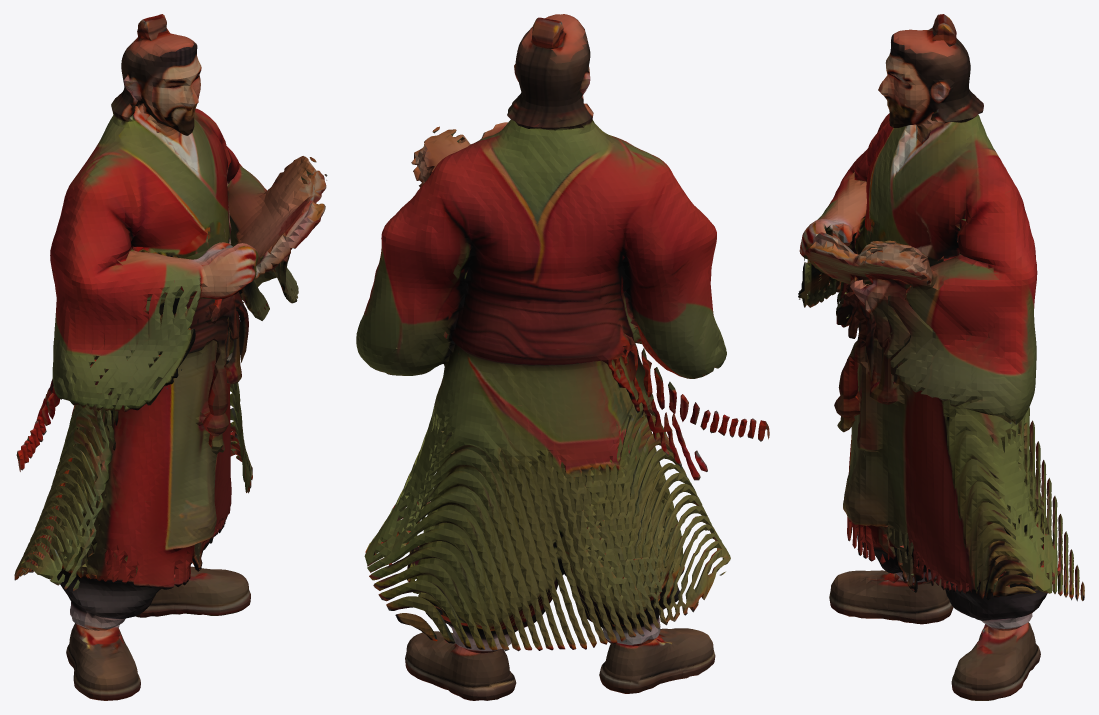
Rendered from body.glb.
The picture shows the model from 3 angles, left to right: view 1: azimuth 30°, elevation 25°; view 2: azimuth 150°, elevation 25°; view 3: azimuth 270°, elevation 25°; orthographic projection. The views are drawn at different scales.
Visible parts, largest first — view 1: geometry_0; view 2: geometry_0; view 3: geometry_0.
Part boxes in pixels (x1,y1,x2,y2): geometry_0: (14, 14, 327, 700); geometry_0: (356, 14, 769, 700); geometry_0: (798, 14, 1084, 700).
Bounding box in the file's own units: 1.08 × 1.96 × 0.8078.
Materials: 1 (1 with a texture image).
